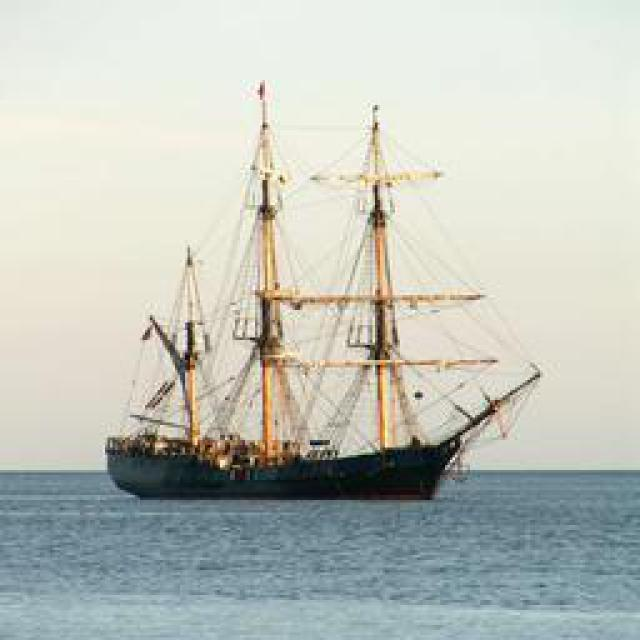Ship: (107, 80, 537, 500)
